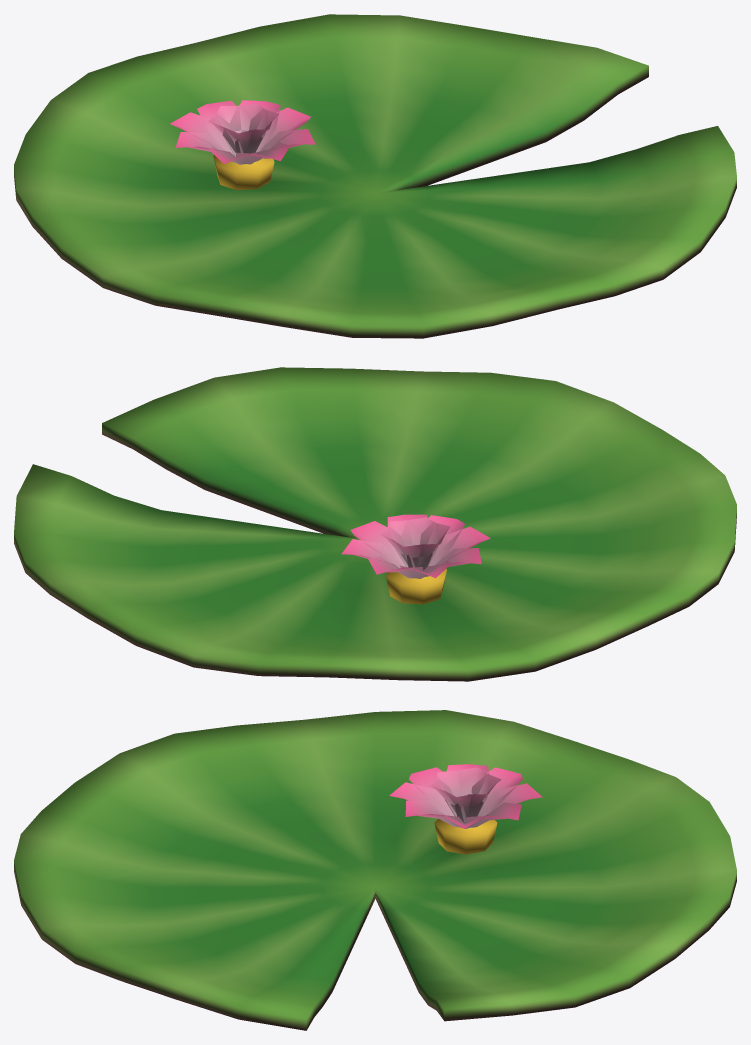
Rendered from lily_pad.glb.
The picture shows the model from 3 angles, top to bottom: view 1: azimuth 30°, elevation 25°; view 2: azimuth 150°, elevation 25°; view 3: azimuth 270°, elevation 25°; orthographic projection.
Visible parts, largest first — view 1: lily_pad; view 2: lily_pad; view 3: lily_pad.
Part boxes in pixels (x1,y1,x2,y2): lily_pad: (14,14,736,338); lily_pad: (14,367,736,681); lily_pad: (14,710,736,1030).
Size of the model in its own units: 1.59 by 0.1822 by 1.6.
